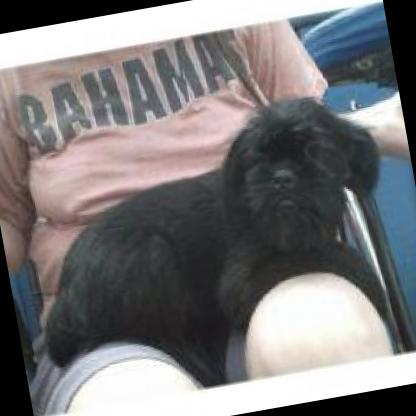affenpinscher: (9, 81, 405, 396)
